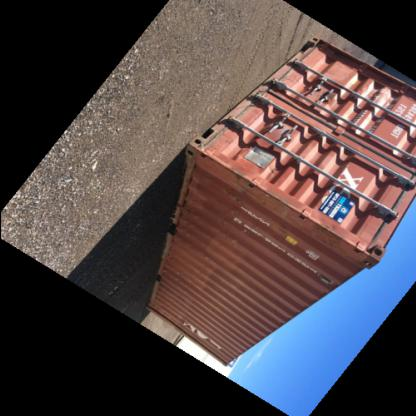Damage: (236, 165, 302, 224), (185, 144, 227, 172), (313, 215, 343, 247), (342, 236, 370, 268), (165, 217, 186, 239)
